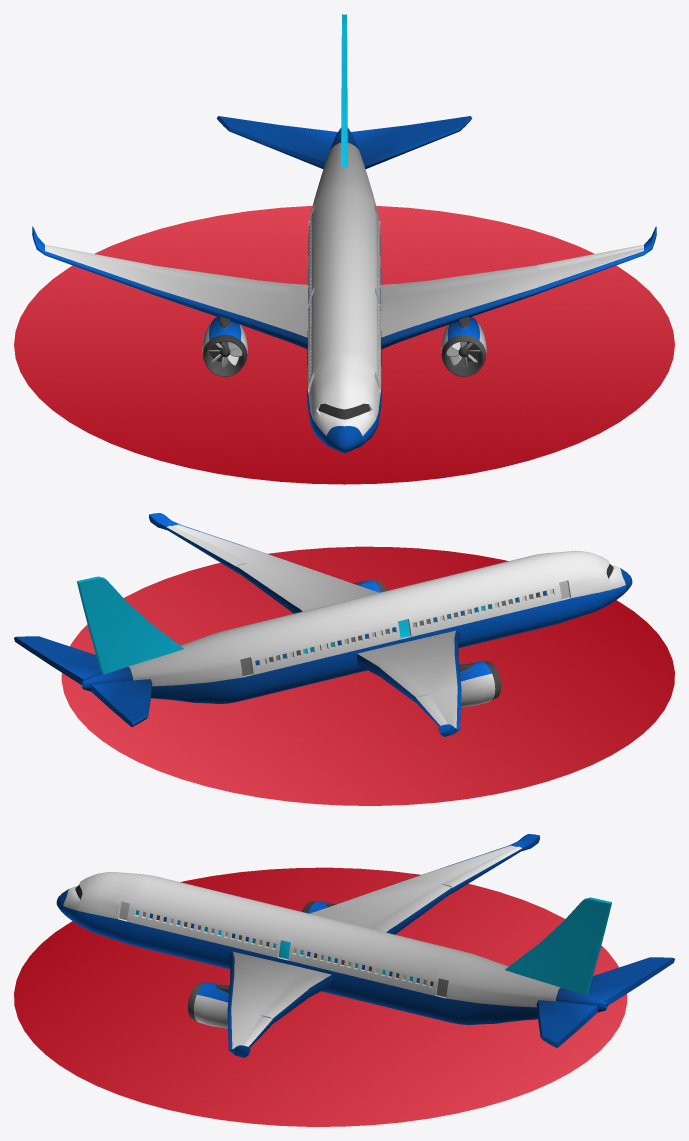
3 renders of one model, top to bottom at view 1: azimuth 30°, elevation 25°; view 2: azimuth 150°, elevation 25°; view 3: azimuth 270°, elevation 25°, orthographic. The views are drawn at different scales.
Parts seen in each view (by area): view 1: PlaneTheta, Ariplane_14p; view 2: PlaneTheta, Ariplane_14p; view 3: PlaneTheta, Ariplane_14p.
Boxes of the visible parts, <box> form: PlaneTheta: <box>14,206,674,484</box>; Ariplane_14p: <box>32,14,656,453</box>; PlaneTheta: <box>61,546,674,805</box>; Ariplane_14p: <box>14,513,632,736</box>; PlaneTheta: <box>14,867,627,1126</box>; Ariplane_14p: <box>56,834,674,1057</box>.
Size of what is drawn, in the model's own units: 133 by 39.38 by 143.
